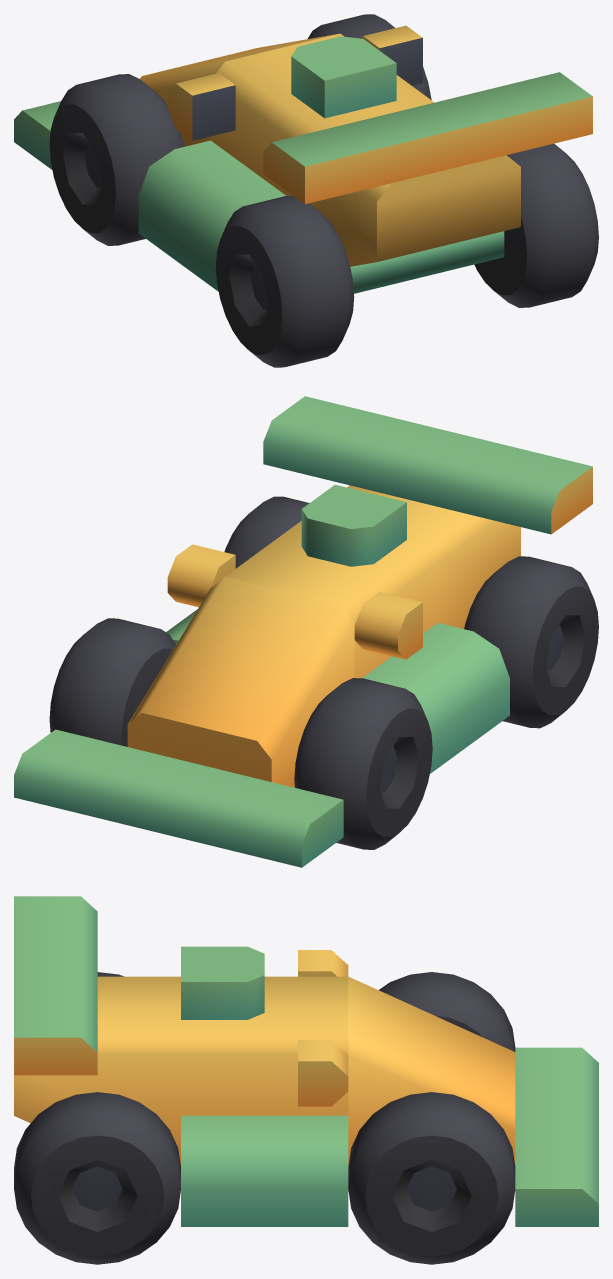
The model's file is vehicle-speedster.glb.
3 renders of one model, top to bottom at view 1: azimuth 30°, elevation 25°; view 2: azimuth 150°, elevation 25°; view 3: azimuth 270°, elevation 25°, orthographic.
Parts seen in each view (by area): view 1: vehicle-speedster, wheel-bl, wheel-fl, wheel-br, wheel-fr; view 2: vehicle-speedster, wheel-fl, wheel-bl, wheel-fr, wheel-br; view 3: vehicle-speedster, wheel-fr, wheel-br, wheel-fl.
Boxes of the visible parts, x1,y1,x2,y2 form: vehicle-speedster: [14, 25, 592, 293]; wheel-bl: [216, 196, 354, 367]; wheel-fl: [49, 74, 184, 245]; wheel-br: [474, 143, 598, 307]; wheel-fr: [307, 14, 431, 99]; vehicle-speedster: [14, 396, 592, 867]; wheel-fl: [294, 678, 432, 849]; wheel-bl: [464, 556, 598, 728]; wheel-fr: [49, 618, 175, 746]; wheel-br: [224, 496, 309, 568]; vehicle-speedster: [14, 896, 598, 1226]; wheel-fr: [348, 1092, 515, 1264]; wheel-br: [14, 1092, 180, 1264]; wheel-fl: [379, 972, 515, 1051].
Size of the model in its own units: 0.55 by 0.375 by 0.875.
1 material, 1 textured.
